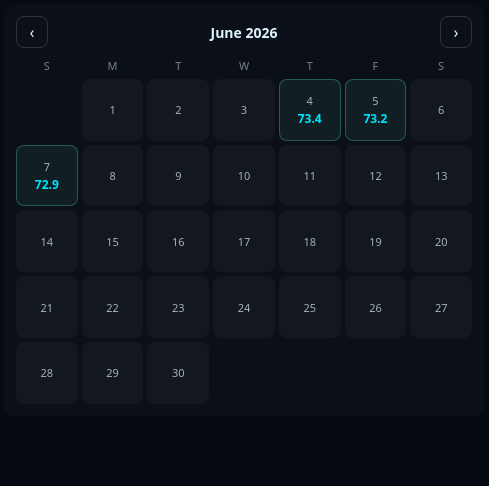
Test: BodyWeightCalendar › navigates to next and previous months
Click the button named "next month": coordinates (456, 32) x1=440 y1=16 x2=472 y2=48
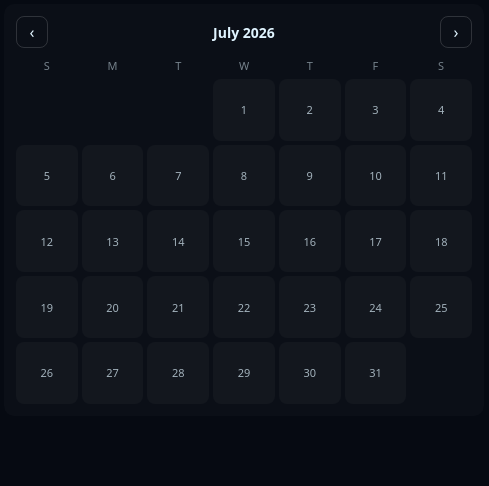
Check: the text "July 2026" is shown, box x1=213 y1=22 x2=275 y2=42
Click the button named "previous month": coordinates (32, 32) x1=16 y1=16 x2=48 y2=48
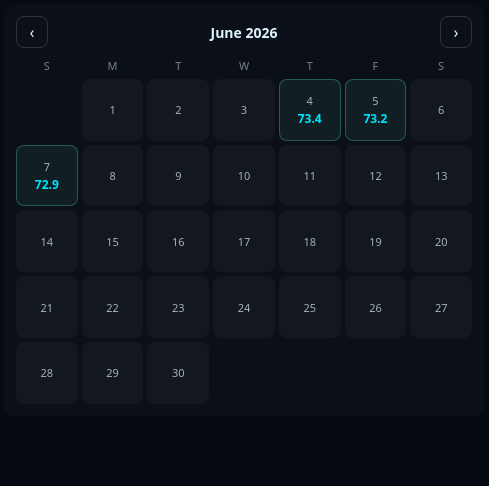
Click the button named "previous month": coordinates (32, 32) x1=16 y1=16 x2=48 y2=48
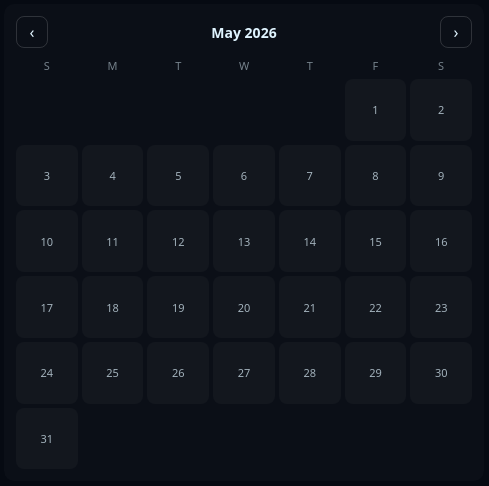
Check: the text "May 2026" is shown, box x1=211 y1=22 x2=277 y2=42
